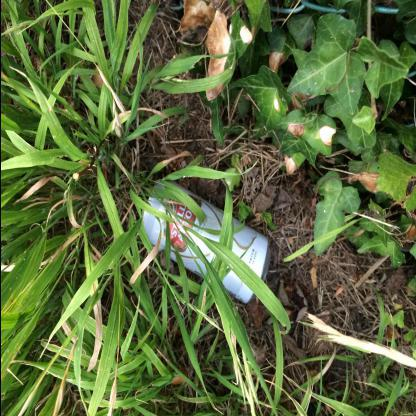metal: (139, 181, 271, 306)
